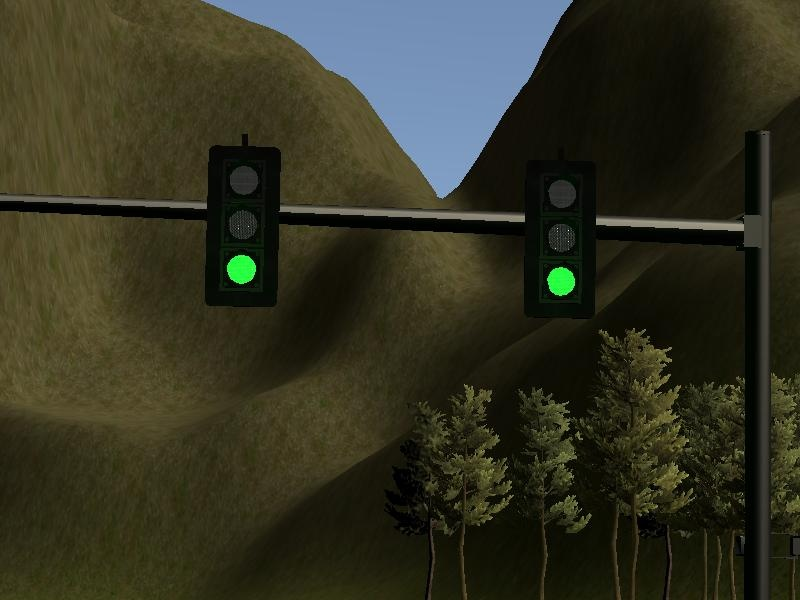green: (203, 144, 284, 314), (521, 158, 600, 328)
